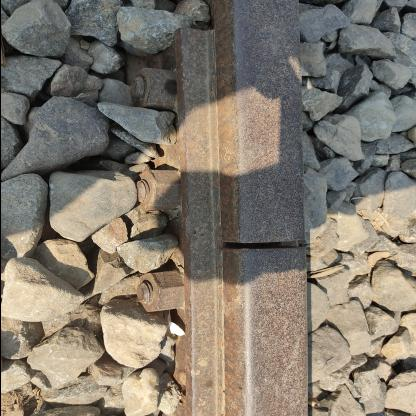Non Defective 2: (183, 204, 340, 296)
